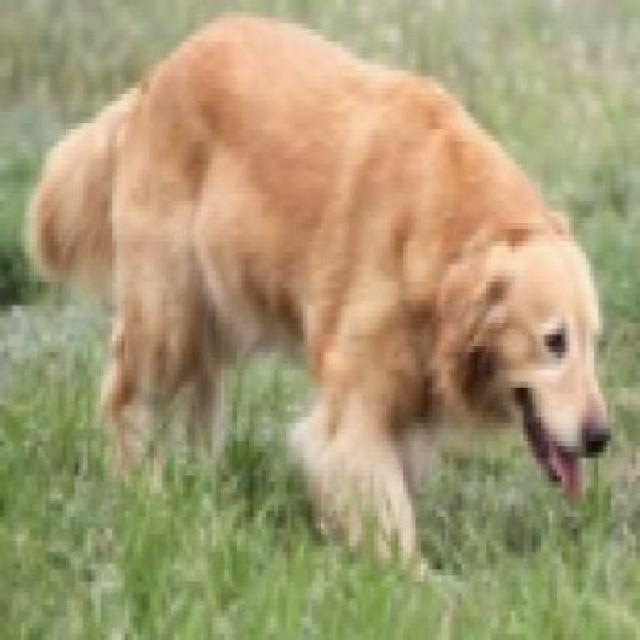Dog: (22, 6, 620, 579)
